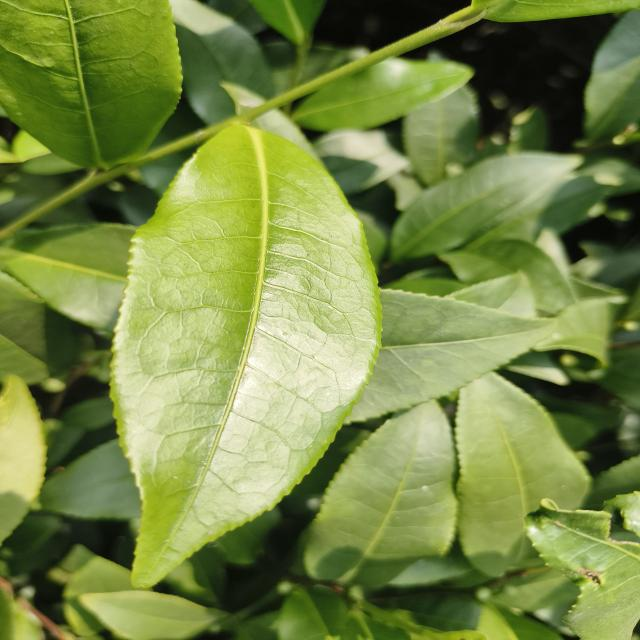Leaf: (112, 125, 380, 587), (0, 0, 182, 168), (304, 400, 457, 587), (455, 372, 590, 577), (349, 289, 552, 421), (391, 152, 582, 262), (525, 491, 640, 640), (0, 224, 134, 328), (293, 58, 473, 131), (170, 0, 274, 124), (439, 239, 576, 313), (0, 272, 79, 384), (39, 439, 141, 520), (402, 85, 479, 186), (0, 375, 46, 542), (584, 11, 640, 141), (80, 590, 219, 640), (315, 128, 409, 195), (535, 298, 611, 366), (444, 272, 536, 317), (275, 586, 348, 640)
